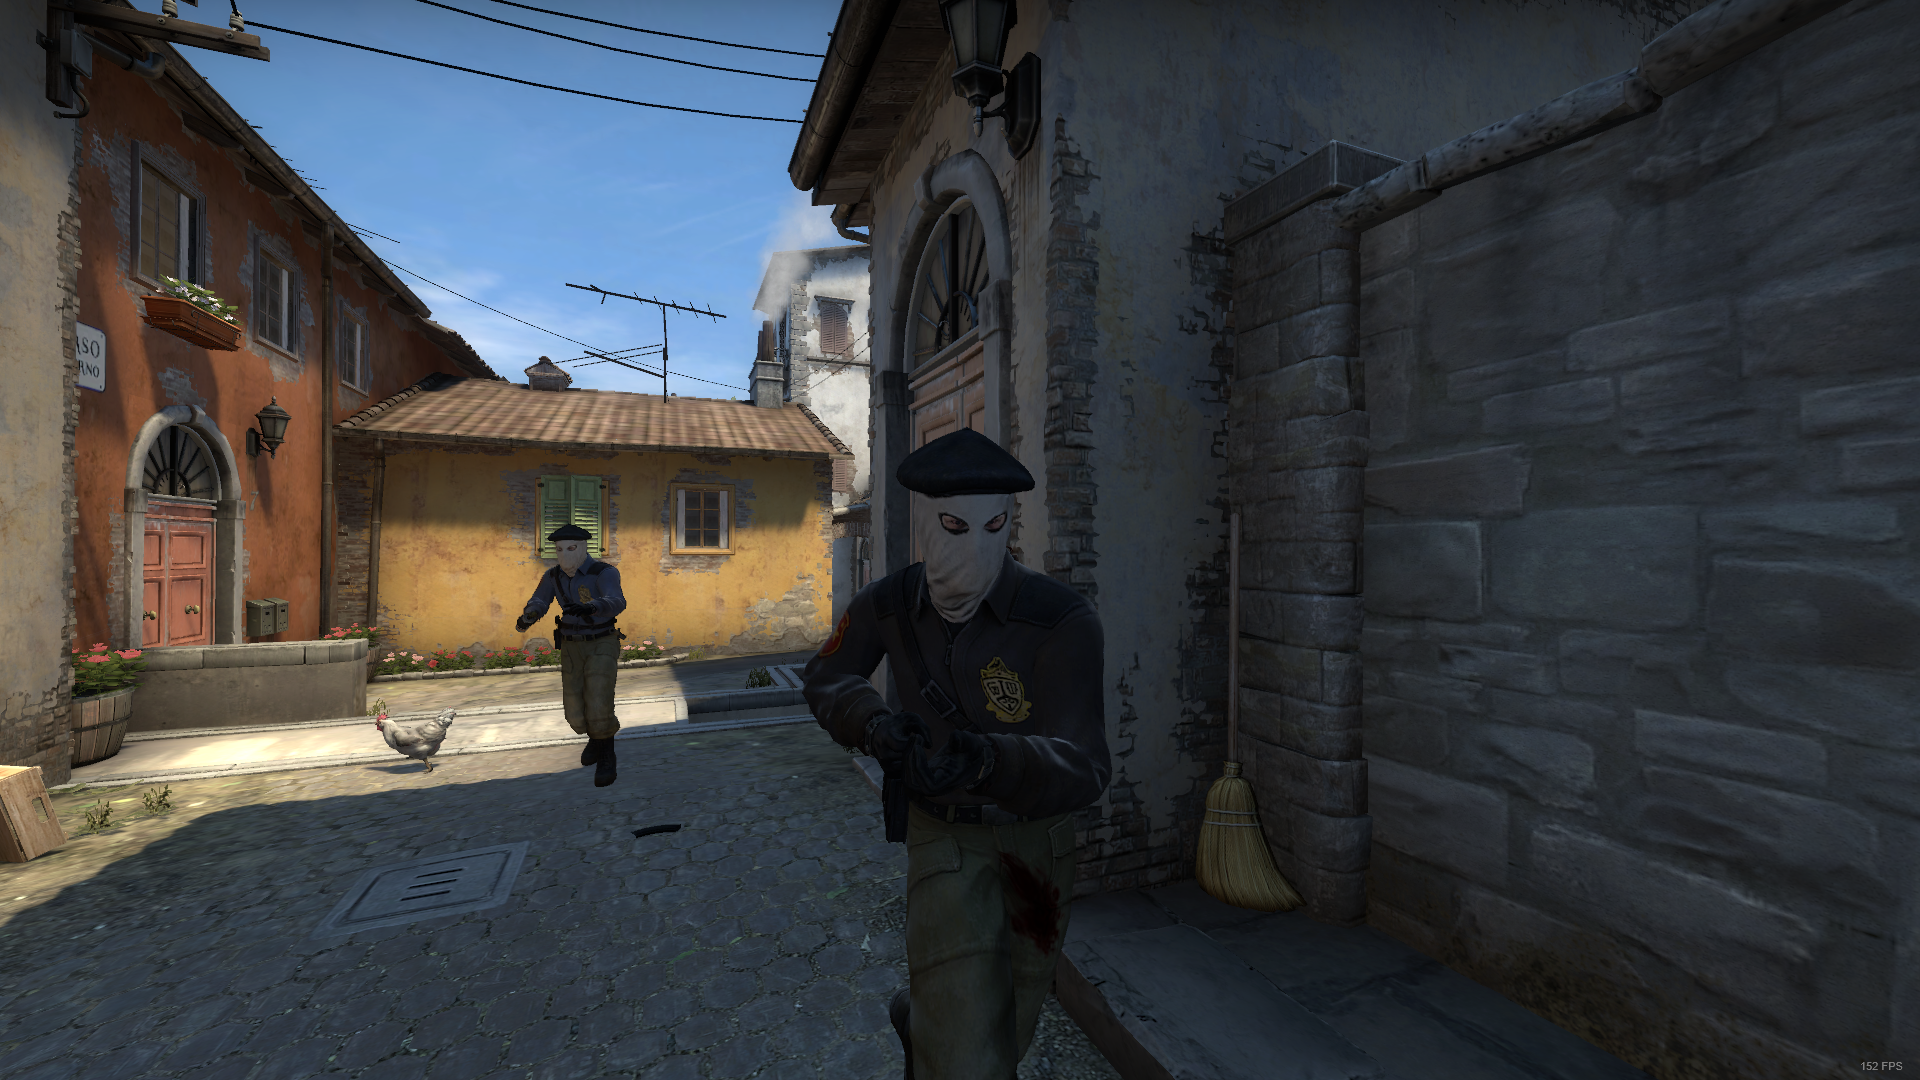t: (804, 429, 1112, 1080), (513, 524, 628, 785)
